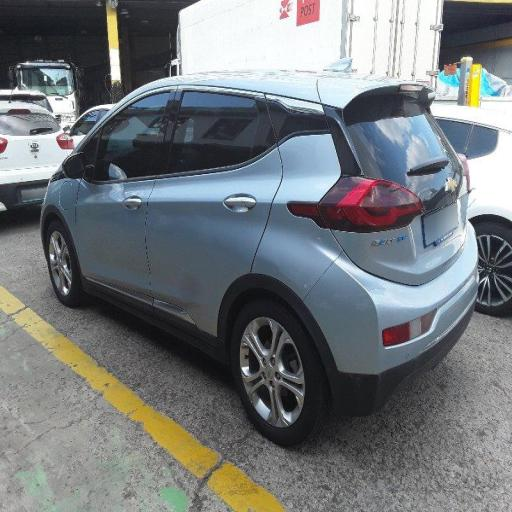scratch: (280, 63, 480, 317), (134, 268, 216, 354)
